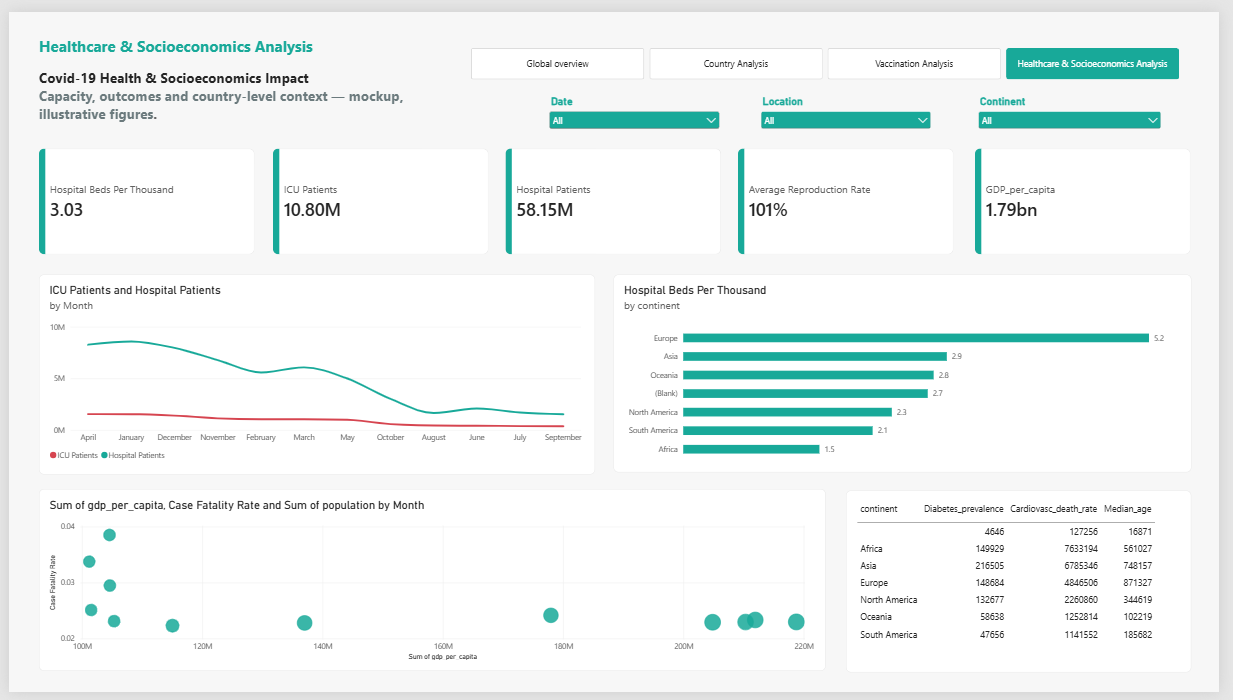

What the dashboard file says about the page in this screenshot:
{"tool":"powerbi","page":{"name":"Healthcare & Socioeconomics Analysis","canvas":[1920,1080],"ordinal":3},"visuals":[{"type":"cardVisual","fields":{"Data":["calculations.Hospital Beds Per Thousand"]},"box":[48.6,217.1,342.9,168.6],"z":0},{"type":"cardVisual","fields":{"Data":["calculations.ICU Patients"]},"box":[420,217.1,342.9,168.6],"z":1},{"type":"cardVisual","fields":{"Data":["calculations.Hospital Patients"]},"box":[788.6,217.1,342.9,168.6],"z":2},{"type":"cardVisual","fields":{"Data":["Sum(Sheet1.gdp_per_capita)"]},"box":[1534.3,217.1,342.9,168.6],"z":3},{"type":"cardVisual","fields":{"Data":["calculations.Average Reproduction Rate"]},"box":[1157.1,217.1,342.9,168.6],"z":4},{"type":"scatterChart","fields":{"Category":["Sheet1.date.Variation.Date Hierarchy.Month"],"Size":["Sum(Sheet1.population)"],"X":["Sum(Sheet1.gdp_per_capita)"],"Y":["calculations.Case Fatality Rate"]},"box":[48.6,757.1,1248.6,288.6],"z":5},{"type":"clusteredBarChart","fields":{"Category":["Sheet1.continent"],"Y":["calculations.Hospital Beds Per Thousand"]},"box":[960,417.1,917.1,314.3],"z":6},{"type":"lineChart","fields":{"Category":["Sheet1.date.Variation.Date Hierarchy.Month"],"Y":["calculations.ICU Patients","calculations.Hospital Patients"]},"box":[48.6,417.1,882.9,317.1],"z":7},{"type":"tableEx","fields":{"Values":["Sheet1.continent","Sum(Sheet1.diabetes_prevalence)","Sum(Sheet1.cardiovasc_death_rate)","Sum(Sheet1.median_age)"]},"box":[1328.6,760,548.1,288.3],"z":8},{"type":"pageNavigator","box":[734.1,56.8,1127.3,50],"z":9},{"type":"slicer","fields":{"Values":["Sheet1.date"]},"box":[851.4,131.4,280,55],"z":10},{"type":"slicer","fields":{"Values":["Sheet1.location"]},"box":[1188.6,131.4,280,55],"z":11},{"type":"slicer","fields":{"Values":["Sheet1.continent"]},"box":[1534.3,131.4,300,61.4],"z":12},{"type":"textbox","box":[48.6,37.1,605.7,148.6],"z":13}]}

Visuals, with their boxes in screenshot pixels (x1, y1, x2, y2), scaled from the page's 1920x1080 canvas onto the 1233x700 screenshot:
cardVisual - calculations.Hospital Beds Per Thousand: (left=31, top=141, right=251, bottom=250)
cardVisual - calculations.ICU Patients: (left=270, top=141, right=490, bottom=250)
cardVisual - calculations.Hospital Patients: (left=506, top=141, right=727, bottom=250)
cardVisual - Sum(Sheet1.gdp_per_capita): (left=985, top=141, right=1206, bottom=250)
cardVisual - calculations.Average Reproduction Rate: (left=743, top=141, right=963, bottom=250)
scatterChart - Sheet1.date.Variation.Date Hierarchy.Month x Sum(Sheet1.population): (left=31, top=491, right=833, bottom=678)
clusteredBarChart - Sheet1.continent x calculations.Hospital Beds Per Thousand: (left=616, top=270, right=1205, bottom=474)
lineChart - Sheet1.date.Variation.Date Hierarchy.Month x calculations.ICU Patients: (left=31, top=270, right=598, bottom=476)
tableEx - Sheet1.continent x Sum(Sheet1.diabetes_prevalence): (left=853, top=493, right=1205, bottom=679)
pageNavigator: (left=471, top=37, right=1195, bottom=69)
slicer - Sheet1.date: (left=547, top=85, right=727, bottom=121)
slicer - Sheet1.location: (left=763, top=85, right=943, bottom=121)
slicer - Sheet1.continent: (left=985, top=85, right=1178, bottom=125)
textbox: (left=31, top=24, right=420, bottom=120)
